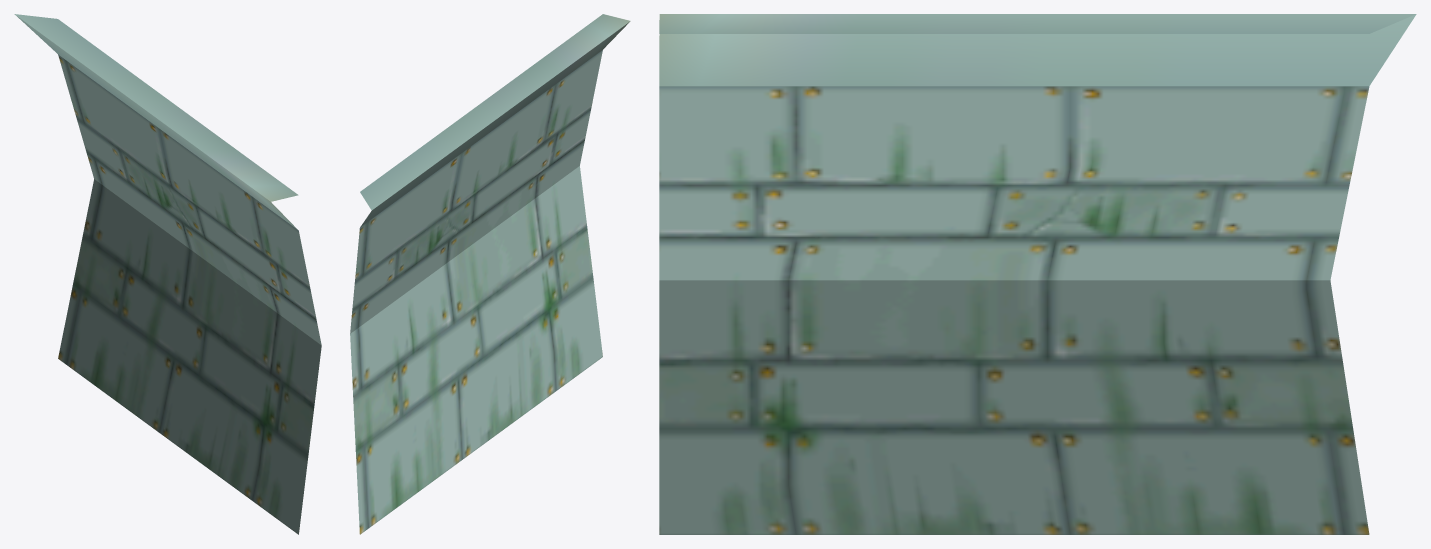
Rendered from W_A2r_xx [Türkis]_1665.glb.
3 renders of one model, left to right at view 1: azimuth 30°, elevation 25°; view 2: azimuth 150°, elevation 25°; view 3: azimuth 270°, elevation 25°, orthographic. The views are drawn at different scales.
Visible parts, largest first — view 1: pPlaneShape1, polySurfaceShape1065; view 2: pPlaneShape1, polySurfaceShape1065; view 3: pPlaneShape1, polySurfaceShape1065.
Boxes of the visible parts, x1,y1,x2,y2 form: pPlaneShape1: (58,54,321,534); polySurfaceShape1065: (14,14,298,229); pPlaneShape1: (350,50,602,534); polySurfaceShape1065: (360,14,630,227); pPlaneShape1: (659,86,1369,534); polySurfaceShape1065: (659,14,1416,86).
Bounding box in the file's own units: 0.0607 × 0.3891 × 0.5333.
Materials: 2 (2 with a texture image).
